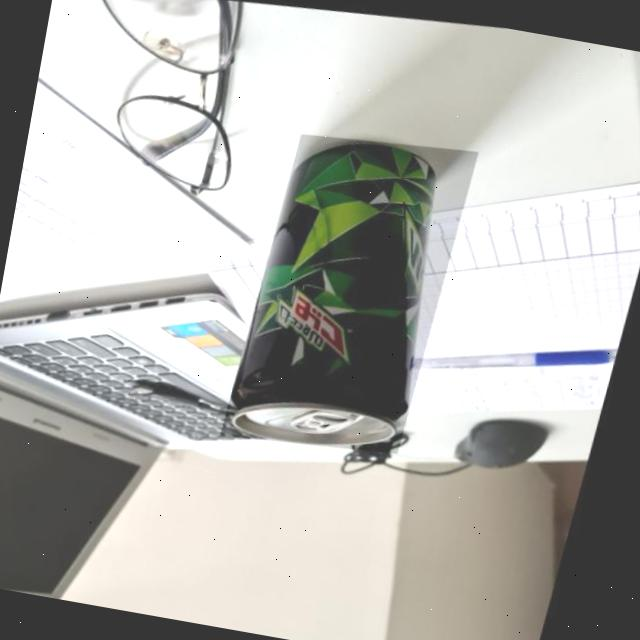trash: (222, 122, 452, 477)
